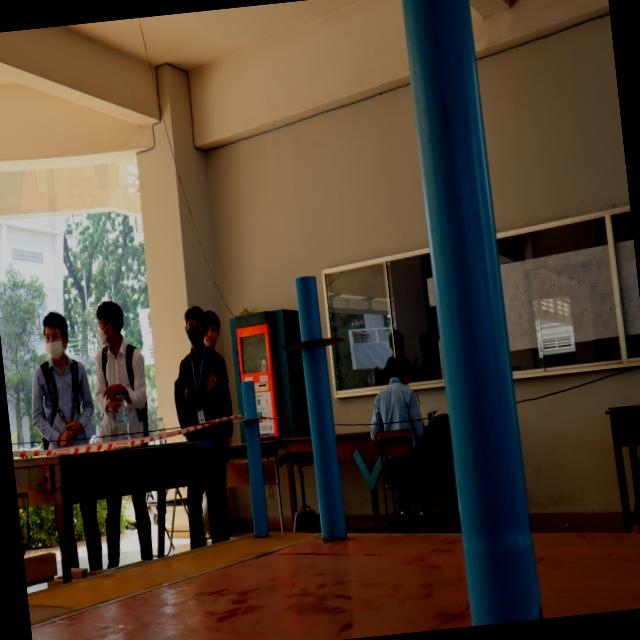pole: (274, 268, 346, 389), (224, 381, 270, 446)
